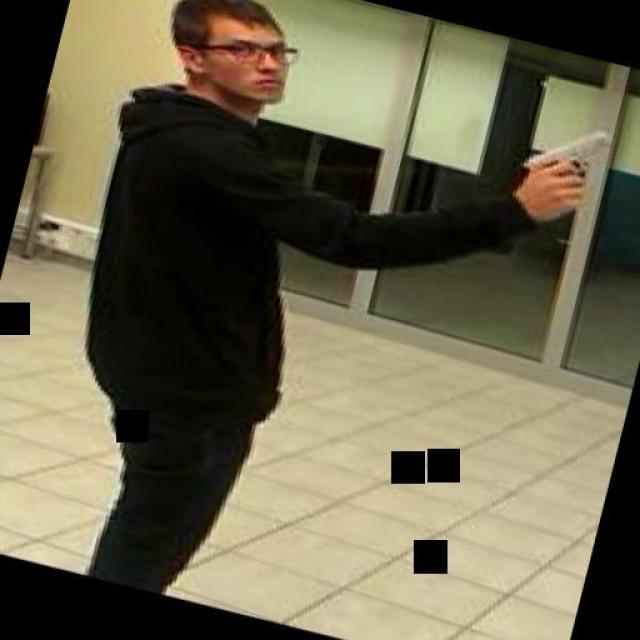gun: (513, 110, 615, 204)
